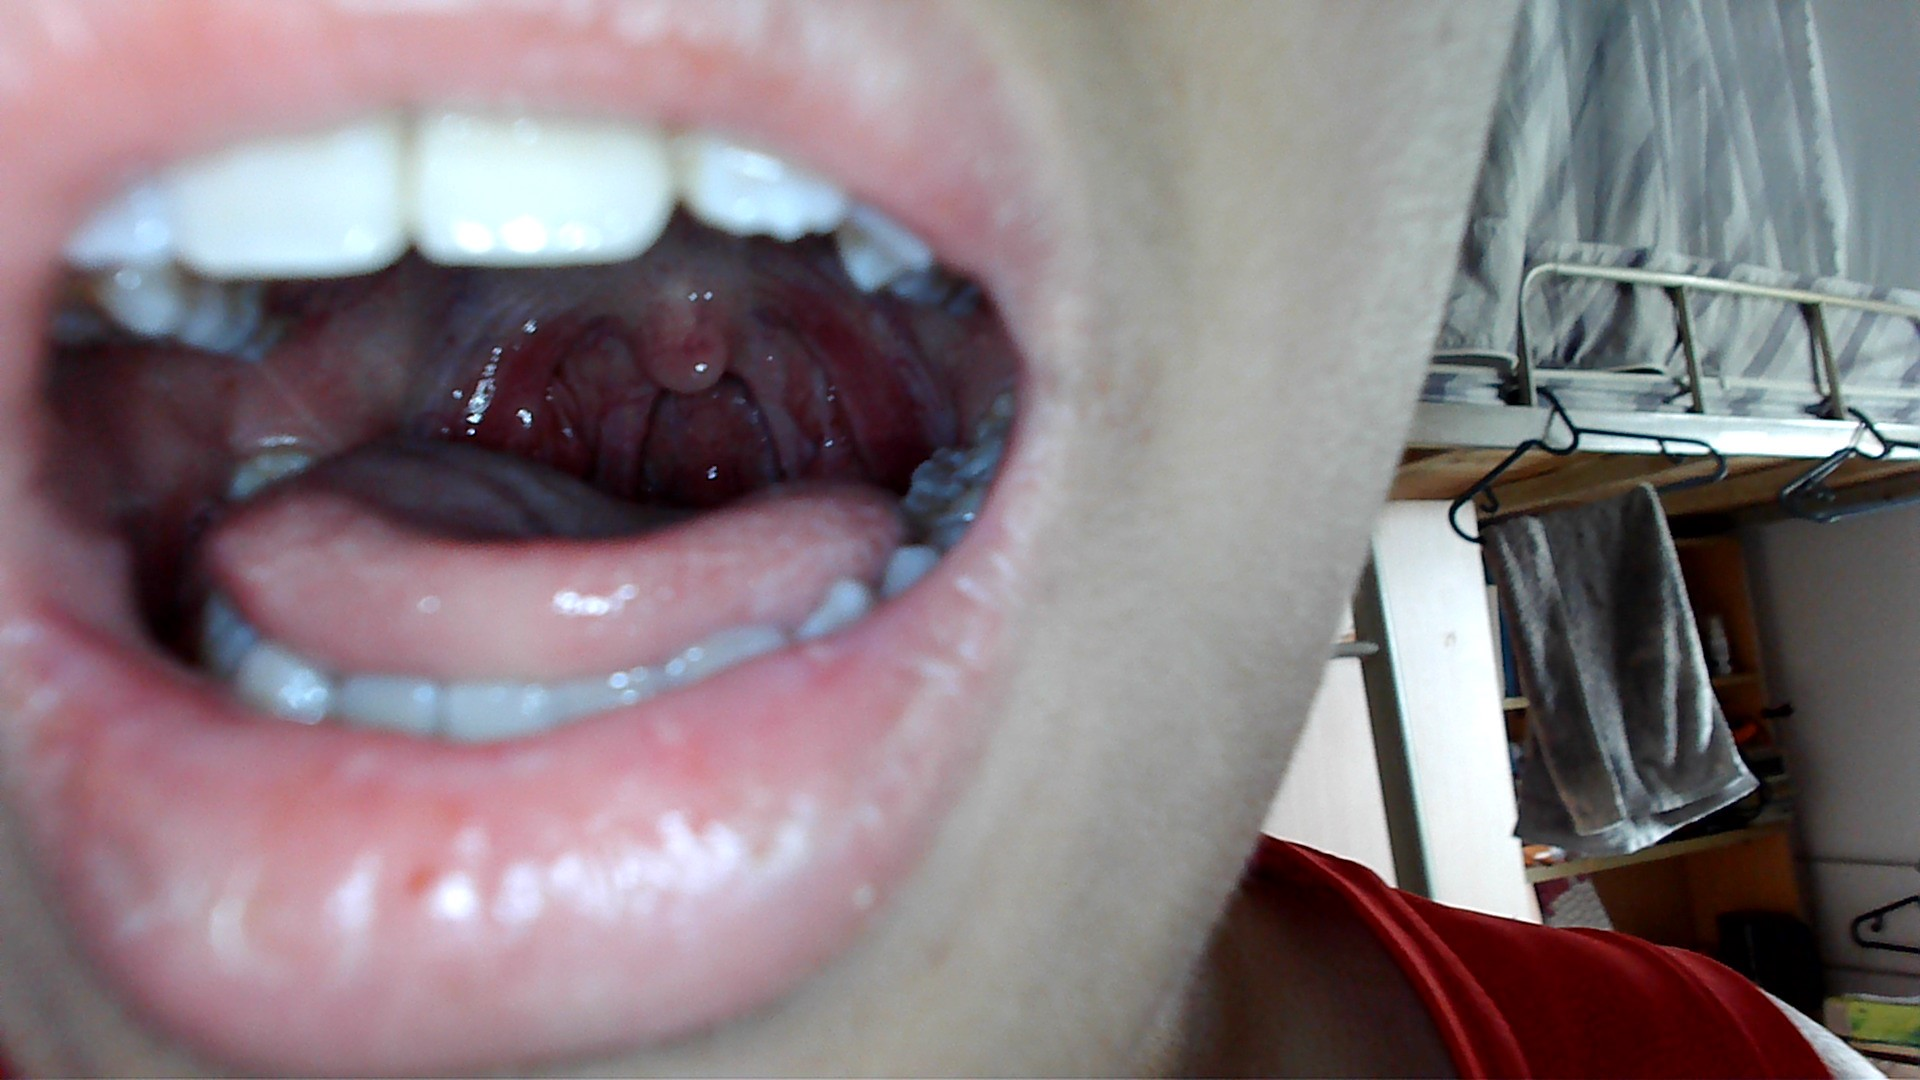throat: (802, 301, 906, 460), (465, 313, 566, 448)
